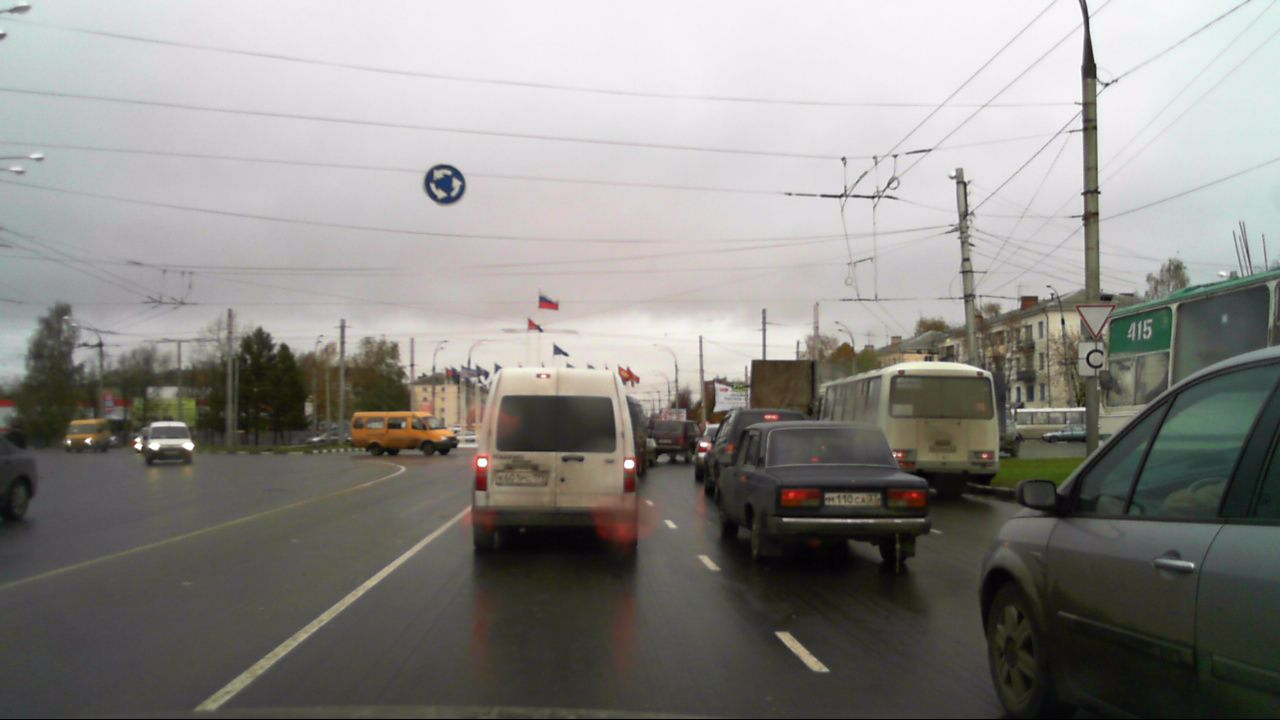Round-About: (423, 163, 467, 206)
